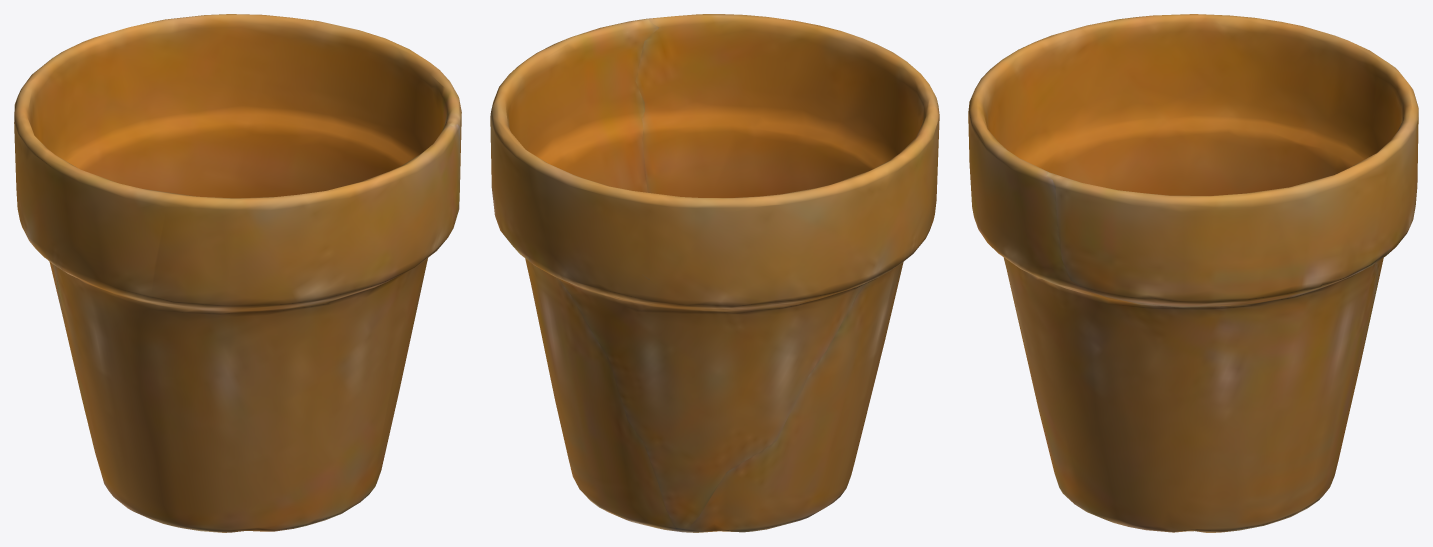
File: gso_cole_hardware_electric_pot_cabana_55.glb
3 renders of one model, left to right at view 1: azimuth 30°, elevation 25°; view 2: azimuth 150°, elevation 25°; view 3: azimuth 270°, elevation 25°, orthographic.
Parts seen in each view (by area): view 1: z-up-to-y-up; view 2: z-up-to-y-up; view 3: z-up-to-y-up.
Part boxes in pixels (<box>): z-up-to-y-up: <box>14,14,461,532</box>; z-up-to-y-up: <box>490,14,939,532</box>; z-up-to-y-up: <box>968,14,1418,532</box>.
Size of the model in its own units: 0.1414 by 0.1301 by 0.1419.
1 material, 1 textured.
